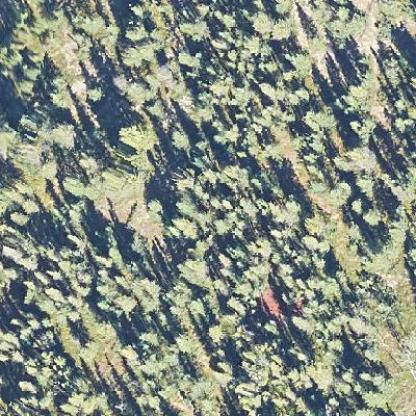tree-top: (60, 372, 116, 414), (332, 141, 384, 175), (113, 114, 162, 149), (333, 141, 384, 174), (174, 254, 213, 287), (302, 104, 339, 131), (281, 42, 314, 72), (51, 117, 79, 151), (346, 112, 378, 138), (247, 6, 274, 36), (356, 384, 389, 408), (166, 126, 194, 152), (122, 18, 146, 42), (76, 337, 102, 359), (4, 208, 32, 228), (359, 204, 384, 226), (142, 194, 166, 216)
